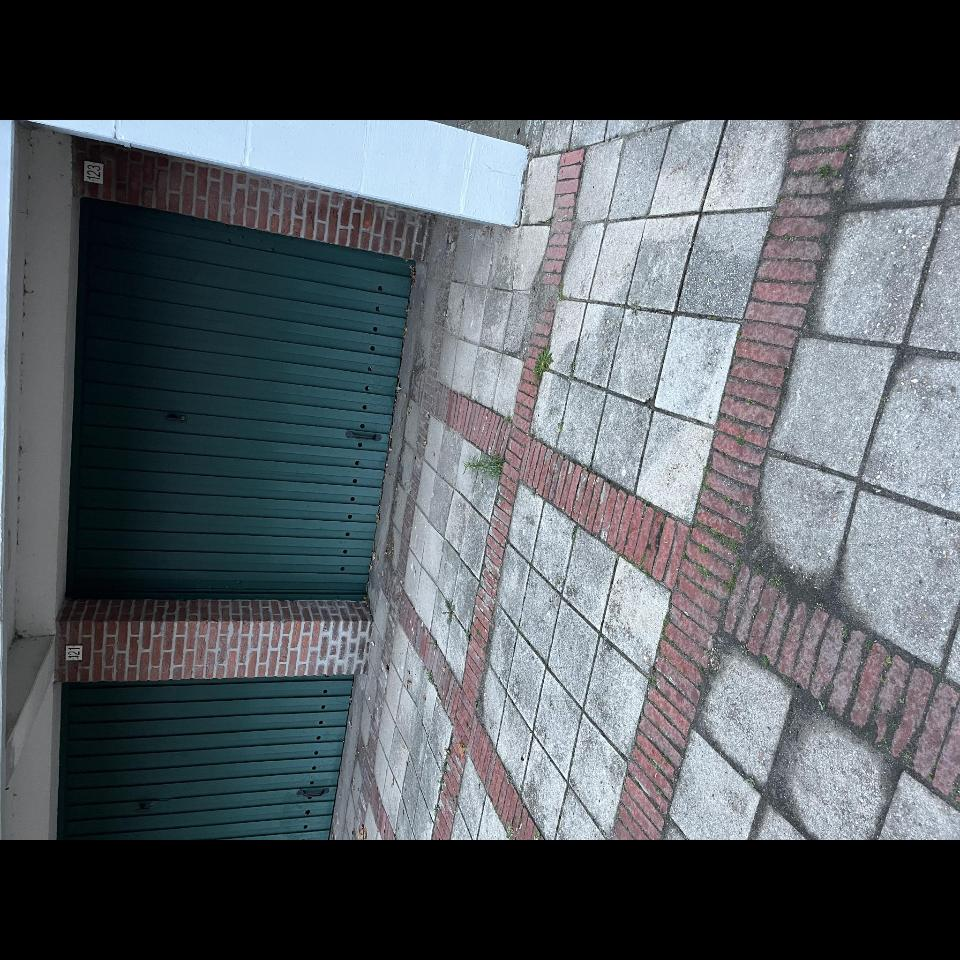weed: (465, 455, 504, 478), (534, 349, 553, 380), (445, 599, 455, 624)
